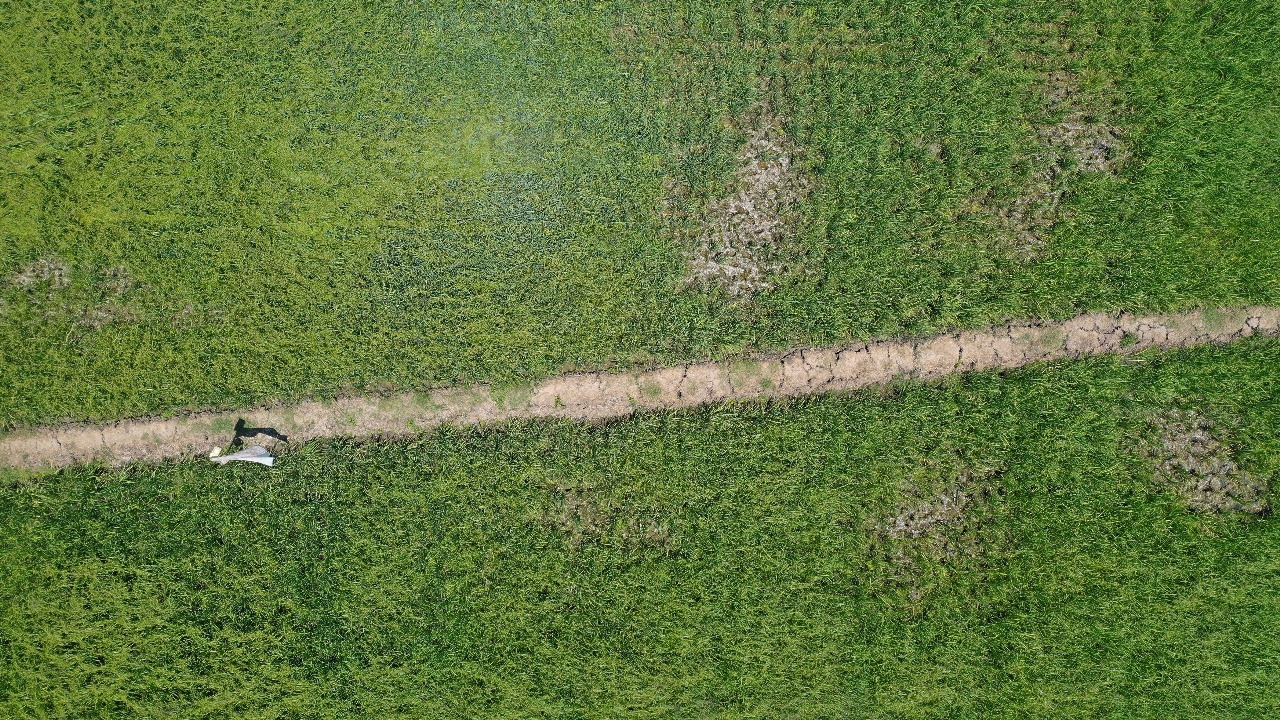irigration: (1, 278, 1280, 501)
